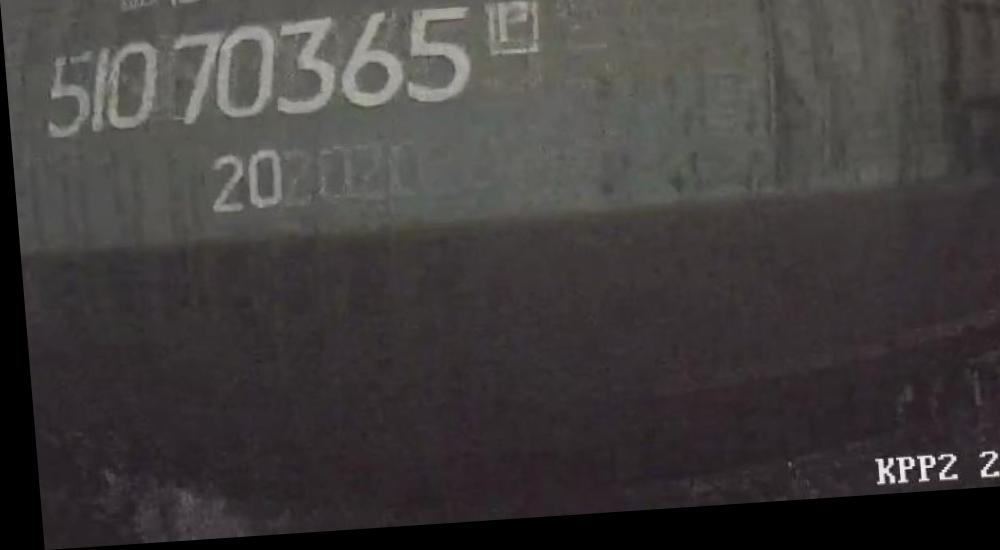Wagon-number: (26, 3, 486, 142)
